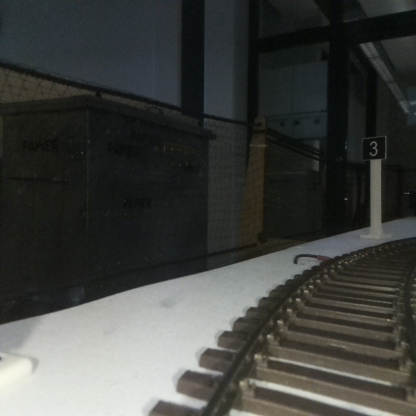black-info-3: (362, 135, 385, 238)
